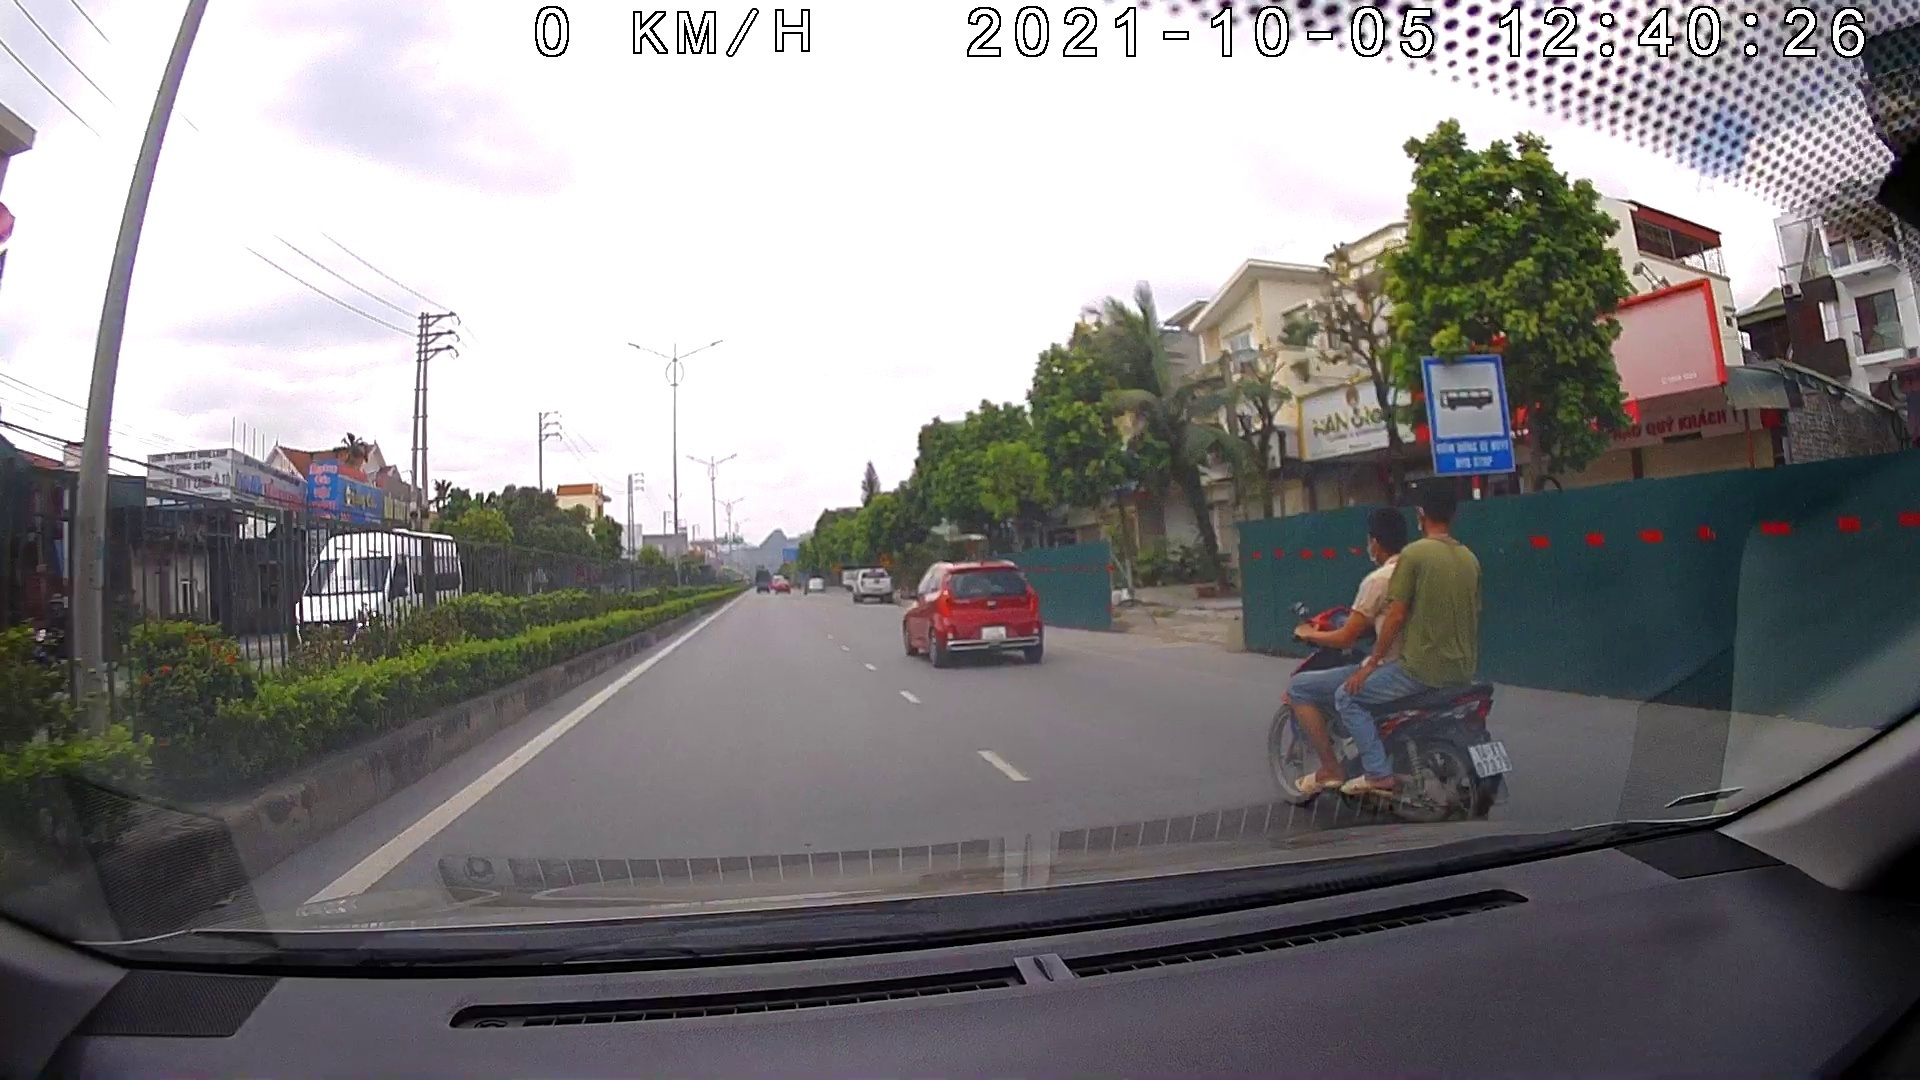Bien khac: (1418, 355, 1520, 480)
